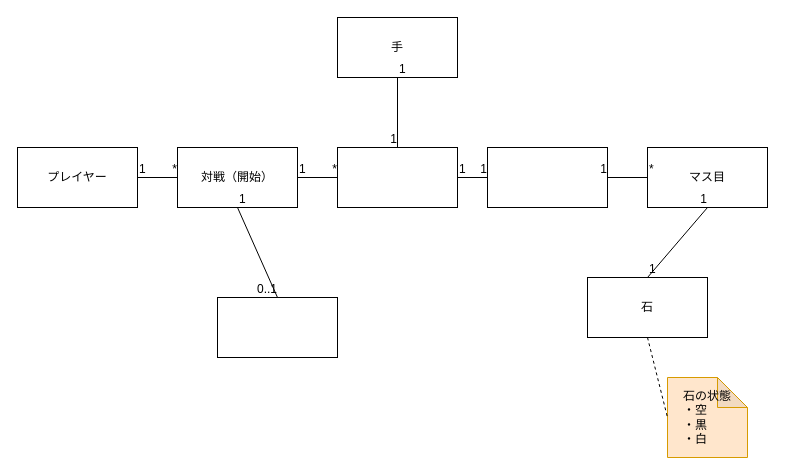
Some shapes in this 785 by 475 pixel diagram are drawn without their labels. The centre of each missing label's shape, as x and y in pixels:
ターン: [397,177]
対戦結果: [277,327]
盤面: [547,177]
